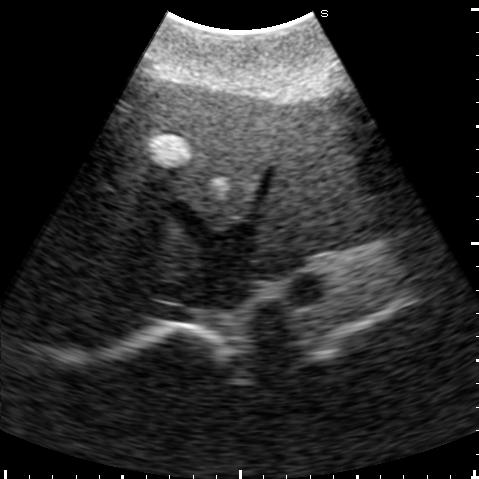S2: (248, 102, 366, 278)
S4: (108, 81, 281, 229)
S7: (23, 260, 141, 346)
S8: (67, 175, 195, 279)
Tumor: (146, 133, 188, 167), (210, 177, 229, 196)
